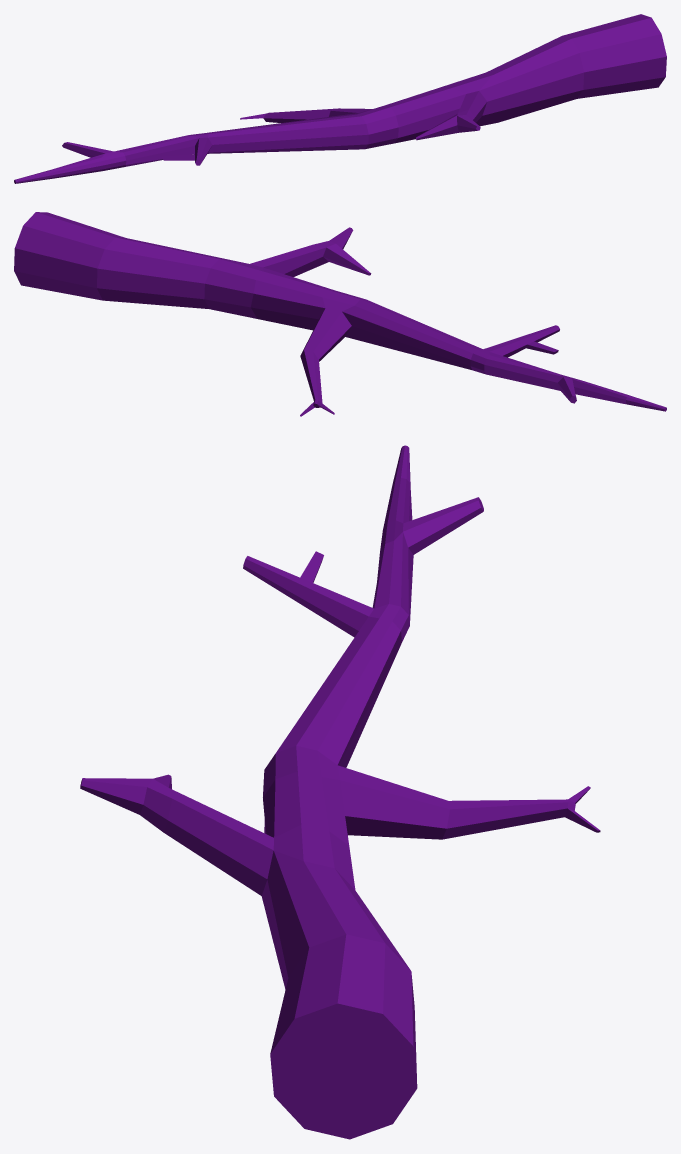
Rendered from troncoroxo.fbx.
The picture shows the model from 3 angles, top to bottom: view 1: azimuth 30°, elevation 25°; view 2: azimuth 150°, elevation 25°; view 3: azimuth 270°, elevation 25°; orthographic projection. The views are drawn at different scales.
Visible parts, largest first — view 1: Cylinder.005; view 2: Cylinder.005; view 3: Cylinder.005.
Boxes of the visible parts, x1=… form: Cylinder.005: x1=14, y1=14, x2=666, y2=183; Cylinder.005: x1=14, y1=212, x2=666, y2=416; Cylinder.005: x1=80, y1=445, x2=600, y2=1139.
Bounding box in the file's own units: 939 × 102 × 341.
